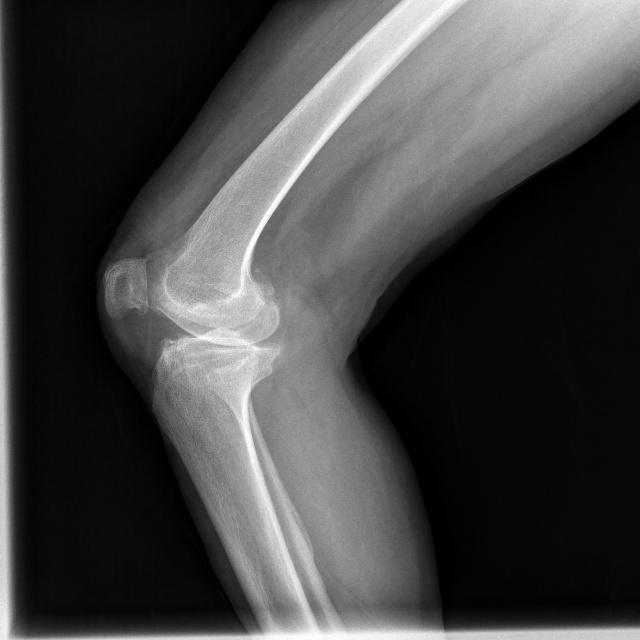Knee: (99, 240, 284, 407)
